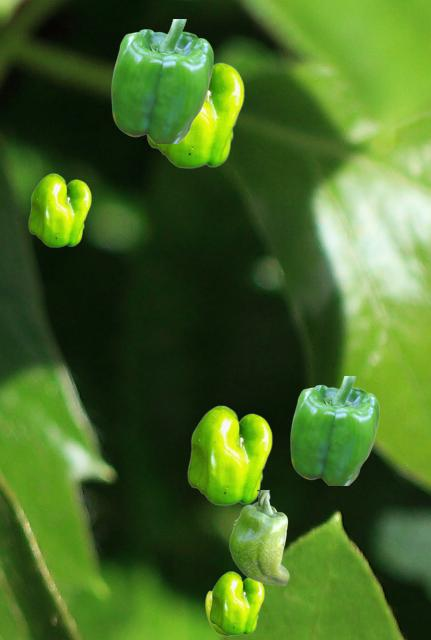bell_pepper: (111, 19, 212, 142), (146, 62, 243, 167), (290, 376, 378, 484), (187, 405, 271, 504), (229, 490, 288, 584), (28, 173, 90, 246), (209, 571, 263, 634), (205, 590, 231, 635)
